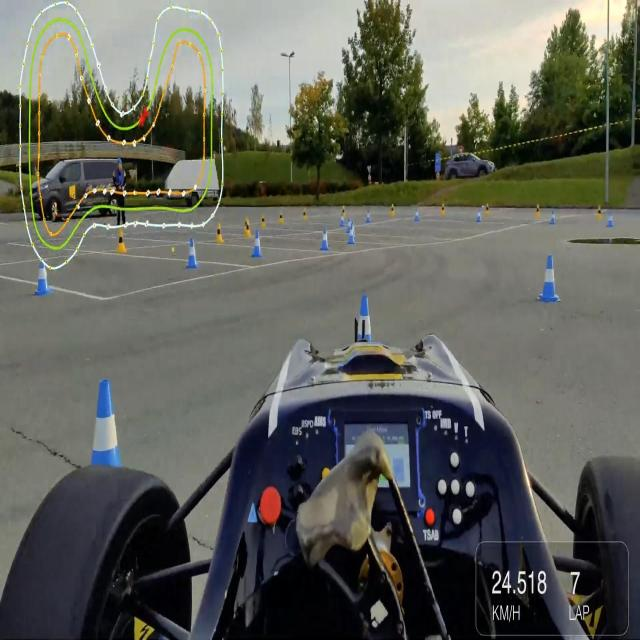blue_cone: (83, 380, 128, 520), (350, 294, 378, 382), (538, 254, 560, 302), (34, 257, 51, 296), (186, 236, 200, 267), (252, 230, 262, 258), (322, 226, 328, 250), (348, 224, 354, 244)
yellow_cone: (116, 228, 126, 253), (216, 219, 224, 243), (244, 219, 251, 237)
